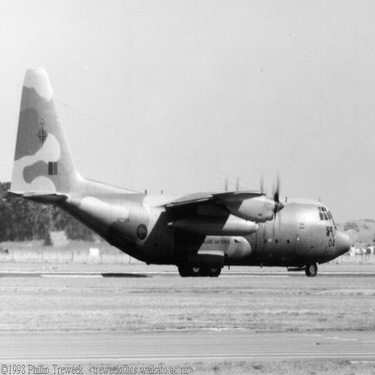airplane: (1, 45, 357, 282)
